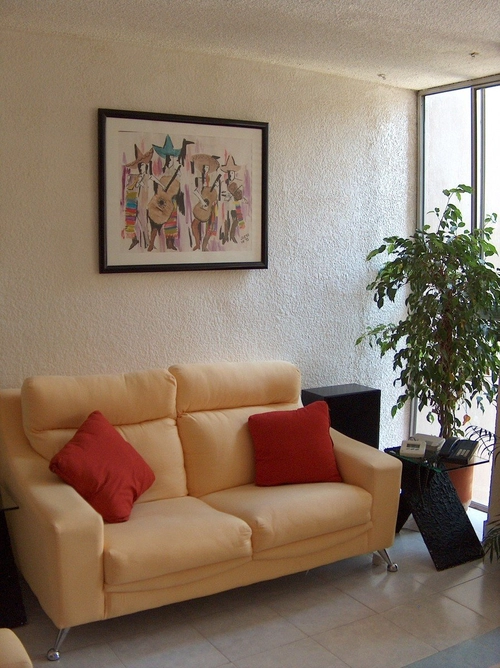large plant: (364, 186, 498, 509)
side table: (390, 432, 491, 506)
sofa: (0, 356, 404, 663)
wall art: (92, 104, 272, 277)
